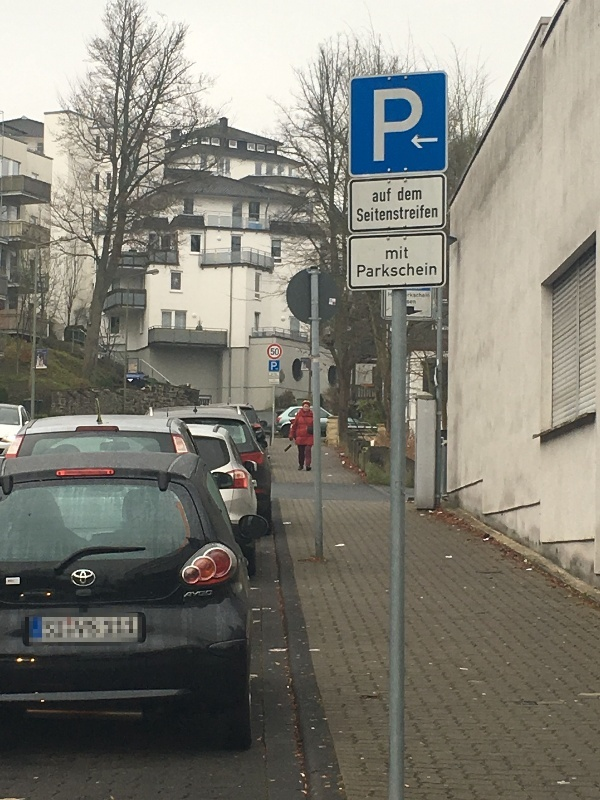text: (385, 86, 400, 162), (401, 86, 416, 162), (374, 86, 384, 162), (417, 86, 424, 162), (369, 204, 384, 223), (385, 204, 400, 223), (401, 204, 416, 223), (417, 204, 432, 223), (356, 204, 368, 223), (369, 263, 384, 278), (385, 263, 400, 278), (401, 263, 416, 278), (417, 263, 432, 278), (401, 187, 416, 202), (386, 245, 400, 260), (357, 263, 368, 278), (373, 188, 384, 203), (401, 245, 409, 260), (193, 591, 208, 598), (385, 188, 392, 203), (433, 204, 438, 223), (417, 293, 430, 299), (417, 187, 422, 202), (388, 292, 400, 297), (433, 263, 437, 278), (407, 293, 416, 299), (273, 362, 278, 371), (273, 349, 279, 356), (406, 301, 416, 304), (398, 187, 400, 202), (188, 591, 192, 598), (209, 591, 212, 598), (273, 381, 279, 384), (273, 373, 278, 376), (271, 362, 272, 371), (271, 349, 272, 356), (270, 381, 272, 384), (271, 373, 272, 376)
